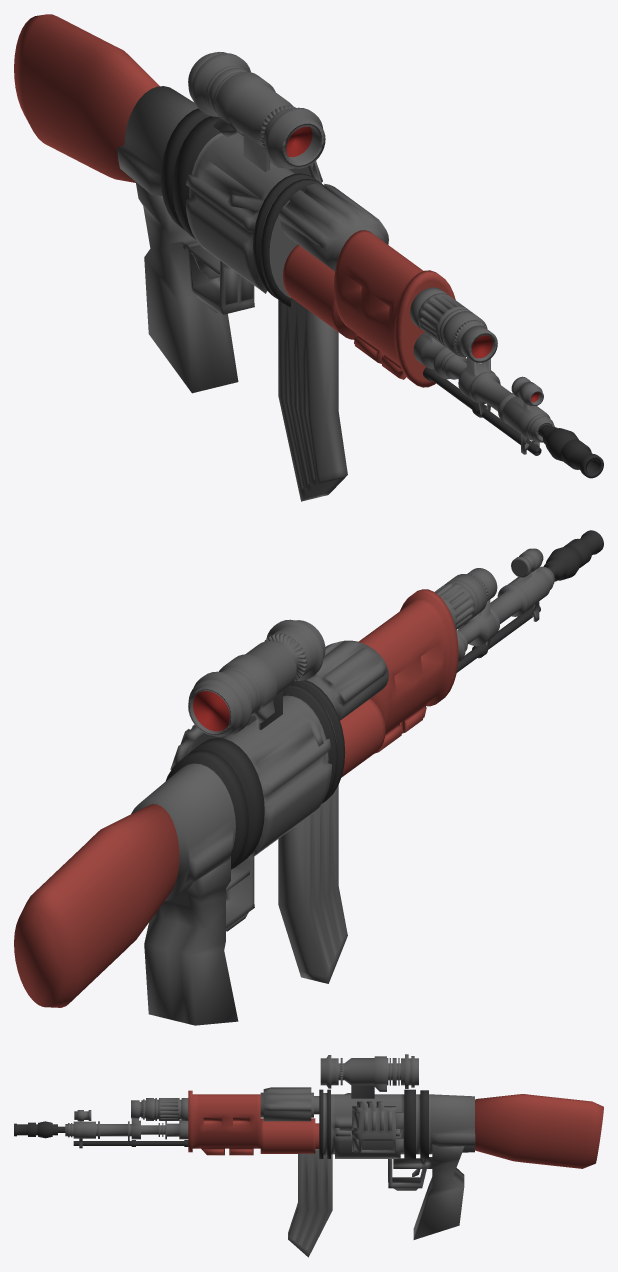
File: AK-47_Aksesoris_Depan1_dan_Aksesoris_Scope1.fbx
3 views of the same model, one above another, from view 1: azimuth 30°, elevation 25°; view 2: azimuth 150°, elevation 25°; view 3: azimuth 270°, elevation 25° (orthographic). The views are drawn at different scales.
Parts seen in each view (by area): view 1: Objek AK47 9, Objek AK47 11, Objek AK47 10, Objek AK47 12, Objek AK47 6, Cylinder, Objek AK47 7, Objek AK47 2, Objek AK47 1, Objek AK47 5, Cylinder.001, Objek AK47 3 (+1 smaller); view 2: Objek AK47 9, Objek AK47 11, Objek AK47 10, Objek AK47 12, Cylinder, Objek AK47 6, Objek AK47 7, Objek AK47 2, Objek AK47 5, Objek AK47 1, Cylinder.001, Objek AK47 3 (+1 smaller); view 3: Objek AK47 9, Objek AK47 11, Objek AK47 6, Objek AK47 10, Objek AK47 12, Cylinder, Objek AK47 5, Objek AK47 7, Objek AK47 2, Objek AK47 1, Cylinder.001, Objek AK47 3.
Boxes of the visible parts, <box> form: Objek AK47 9: <box>117,86,324,306</box>; Objek AK47 11: <box>14,14,159,182</box>; Objek AK47 10: <box>135,182,254,393</box>; Objek AK47 12: <box>278,297,347,501</box>; Objek AK47 6: <box>334,230,455,387</box>; Cylinder: <box>188,52,325,172</box>; Objek AK47 7: <box>278,183,388,271</box>; Objek AK47 2: <box>413,332,554,454</box>; Objek AK47 1: <box>410,287,497,363</box>; Objek AK47 5: <box>282,244,356,339</box>; Cylinder.001: <box>538,424,603,478</box>; Objek AK47 3: <box>423,367,541,455</box>; Objek AK47 9: <box>131,680,345,901</box>; Objek AK47 11: <box>14,804,179,1007</box>; Objek AK47 10: <box>144,855,254,1025</box>; Objek AK47 12: <box>278,785,347,983</box>; Cylinder: <box>188,619,325,736</box>; Objek AK47 6: <box>358,589,458,753</box>; Objek AK47 7: <box>306,640,388,720</box>; Objek AK47 2: <box>456,566,554,662</box>; Objek AK47 5: <box>340,698,385,777</box>; Objek AK47 1: <box>435,568,497,629</box>; Cylinder.001: <box>543,530,603,581</box>; Objek AK47 3: <box>456,605,540,672</box>; Objek AK47 9: <box>319,1089,475,1158</box>; Objek AK47 11: <box>475,1094,603,1168</box>; Objek AK47 6: <box>188,1090,260,1155</box>; Objek AK47 10: <box>388,1144,464,1239</box>; Objek AK47 12: <box>288,1149,332,1257</box>; Cylinder: <box>320,1054,418,1098</box>; Objek AK47 5: <box>260,1118,319,1153</box>; Objek AK47 7: <box>260,1087,319,1121</box>; Objek AK47 2: <box>65,1118,188,1148</box>; Objek AK47 1: <box>131,1098,188,1120</box>; Cylinder.001: <box>14,1121,65,1138</box>; Objek AK47 3: <box>73,1140,188,1146</box>.
Bounding box in the file's own units: 76.41 × 256 × 692.
